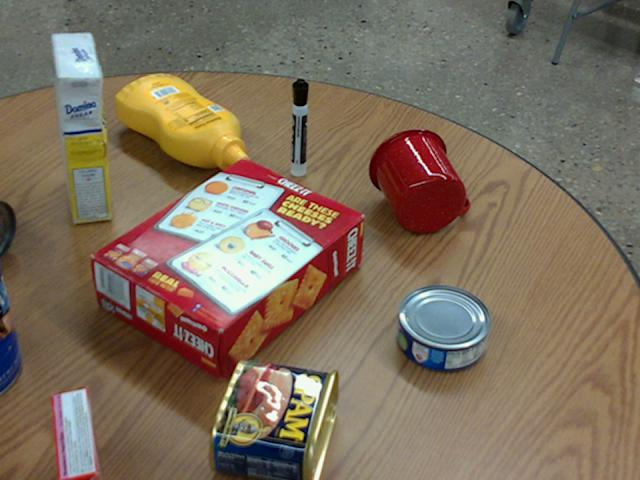cracker_box: (92, 159, 364, 378)
gelatin_box: (51, 384, 104, 479)
large_marker: (290, 79, 308, 175)
master_chef_can: (0, 270, 21, 391)
mug: (368, 128, 469, 233)
mustard_bottle: (115, 74, 248, 169)
potted_meat_can: (207, 358, 338, 479)
sugar_box: (54, 33, 109, 222)
tomato_soup_can: (0, 199, 15, 256)
tuna_fish_can: (396, 284, 490, 371)
